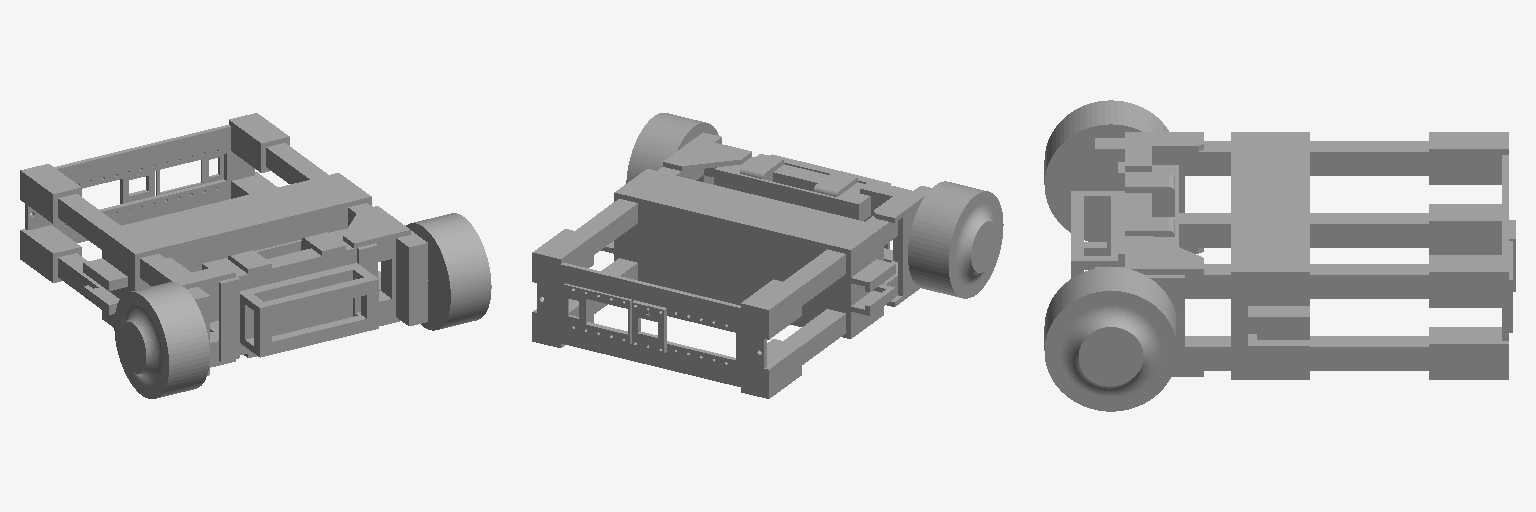
robot.urdf — ATERA_URDF:
<?xml version='1.0' encoding='utf-8'?>
<robot name="ATERA_URDF">
  <!-- Dibuat dari ATERA_URDF.urdf.xacro (m_b = 2.225 kg, L = 0.100408 m, j_psi = 0.02337 kg.m^2). Lihat catatan ASUMSI di file xacro. Path mesh relatif: ../meshes/ -->
  <material name="silver">
    <color rgba="0.7 0.7 0.7 1.0" />
  </material>
  <link name="body_link">
    <inertial>
      <origin xyz="-0.000304 0.089858 -0.000419" rpy="0 0 0" />
      <mass value="2.225" />
      <inertia ixx="0.02337" iyy="0.01654" izz="0.0372" ixy="-0.0003686" iyz="-7.555e-05" ixz="-3.894e-06" />
    </inertial>
    <visual>
      <origin xyz="0.0 0.0 0.0" rpy="0.0 0.0 0.0" />
      <geometry>
        <mesh filename="../meshes/body_link.stl" scale="0.001 0.001 0.001" />
      </geometry>
      <material name="silver" />
    </visual>
    <collision>
      <origin xyz="0.0 0.0 0.0" rpy="0.0 0.0 0.0" />
      <geometry>
        <mesh filename="../meshes/body_link.stl" scale="0.001 0.001 0.001" />
      </geometry>
    </collision>
  </link>
  <link name="Lwheel_link">
    <inertial>
      <origin xyz="0.0 0.0 -0.036088" rpy="0 0 0" />
      <mass value="0.745" />
      <inertia ixx="0.000626" iyy="0.000578" izz="0.00092" ixy="0.0" iyz="0.0" ixz="0.0" />
    </inertial>
    <visual>
      <origin xyz="0.0 0.0 0.0" rpy="0.0 1.570796 0" />
      <geometry>
        <mesh filename="../meshes/Lwheel_link.stl" scale="0.001 0.001 0.001" />
      </geometry>
      <material name="silver" />
    </visual>
    <collision>
      <origin xyz="0.0 0.0 0.0" rpy="0.0 1.570796 0" />
      <geometry>
        <mesh filename="../meshes/Lwheel_link.stl" scale="0.001 0.001 0.001" />
      </geometry>
    </collision>
  </link>
  <link name="Rwheel_link">
    <inertial>
      <origin xyz="0.0 0.0 -0.036088" rpy="0 0 0" />
      <mass value="0.745" />
      <inertia ixx="0.000626" iyy="0.000578" izz="0.00092" ixy="0.0" iyz="0.0" ixz="0.0" />
    </inertial>
    <visual>
      <origin xyz="0.0 0.0 0.0" rpy="0.0 1.570796 0" />
      <geometry>
        <mesh filename="../meshes/Rwheel_link.stl" scale="0.001 0.001 0.001" />
      </geometry>
      <material name="silver" />
    </visual>
    <collision>
      <origin xyz="0.0 0.0 0.0" rpy="0.0 1.570796 0" />
      <geometry>
        <mesh filename="../meshes/Rwheel_link.stl" scale="0.001 0.001 0.001" />
      </geometry>
    </collision>
  </link>
  <joint name="Lwheel_joint" type="continuous">
    <origin xyz="0.114 -0.01055 0.0" rpy="0.0 -1.570796 0" />
    <parent link="body_link" />
    <child link="Lwheel_link" />
    <axis xyz="0 0 -1" />
  </joint>
  <joint name="Rwheel_joint" type="continuous">
    <origin xyz="-0.114 -0.01055 0.0" rpy="0.0 1.570796 0" />
    <parent link="body_link" />
    <child link="Rwheel_link" />
    <axis xyz="0 0 1" />
  </joint>
</robot>

--- Facts derived from the render (not from the file) ---
The picture shows the robot from 3 angles, left to right: view 1: azimuth 30°, elevation 25°; view 2: azimuth 150°, elevation 25°; view 3: azimuth 270°, elevation 25°; orthographic projection.
Model ATERA_URDF with 3 links and 2 joints (2 continuous), rooted at body_link, posed all joints at 0.
Links seen in each view (by area): view 1: body_link, Rwheel_link, Lwheel_link; view 2: body_link, Rwheel_link, Lwheel_link; view 3: body_link, Lwheel_link, Rwheel_link.
Link boxes in pixels (bbox=[...]): body_link: bbox=[20, 113, 427, 375]; Rwheel_link: bbox=[114, 282, 209, 398]; Lwheel_link: bbox=[406, 213, 491, 330]; body_link: bbox=[532, 132, 931, 398]; Rwheel_link: bbox=[908, 181, 1003, 298]; Lwheel_link: bbox=[626, 113, 718, 183]; body_link: bbox=[1071, 132, 1515, 379]; Lwheel_link: bbox=[1044, 267, 1177, 411]; Rwheel_link: bbox=[1044, 100, 1168, 241].
Bounding box of the posed robot: 0.359 × 0.3559 × 0.1007 m (x, y, z).
3 mesh visuals loaded from 3 distinct referenced files (3 binary STL).
